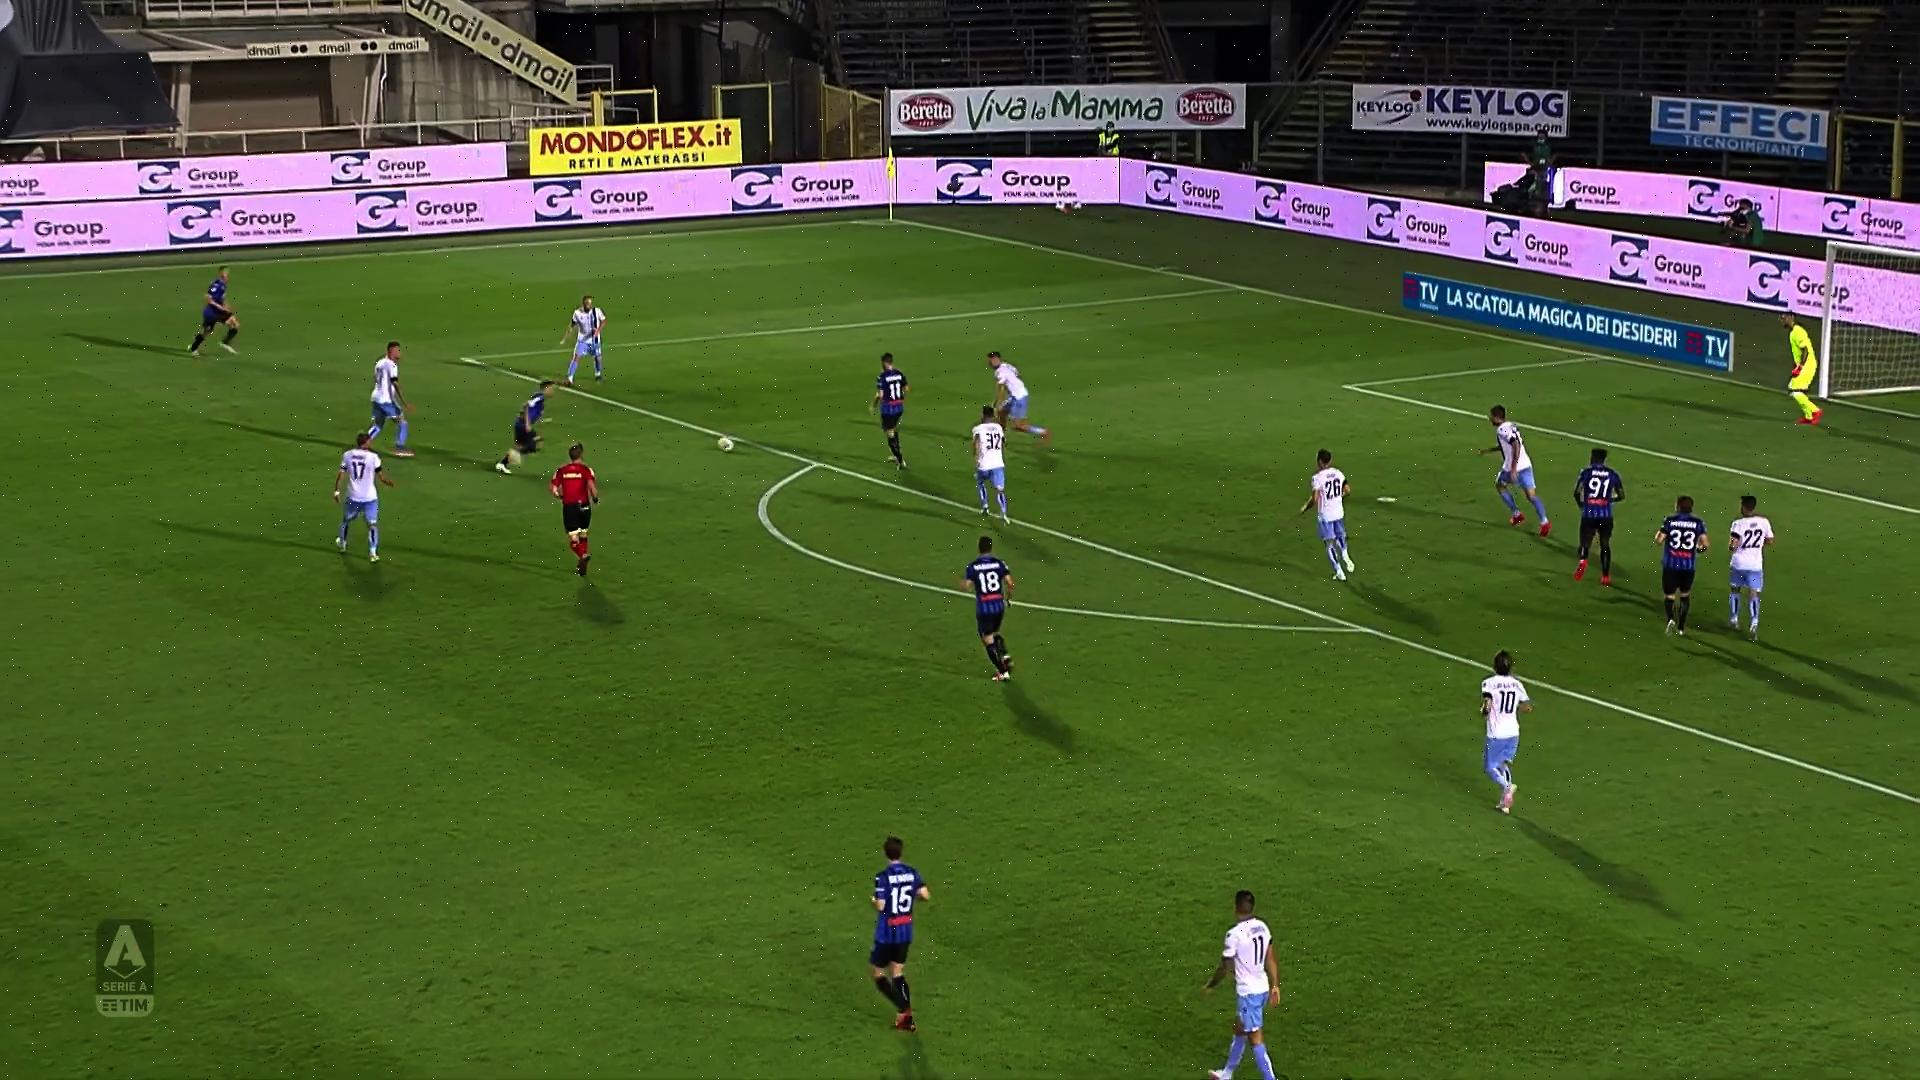ball: (716, 434, 734, 455)
